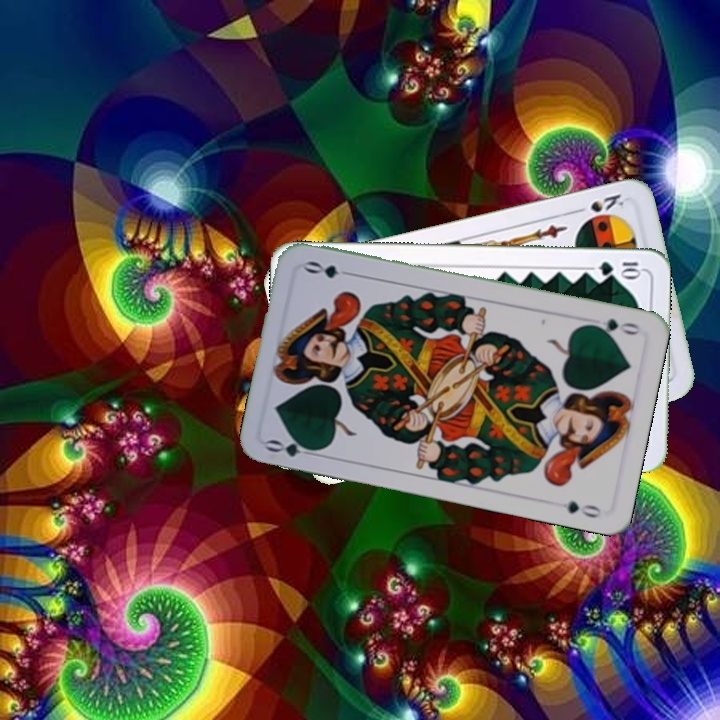G10: (594, 258, 644, 278)
GO: (262, 433, 323, 460), (584, 314, 644, 338)
SK: (570, 190, 627, 216)
